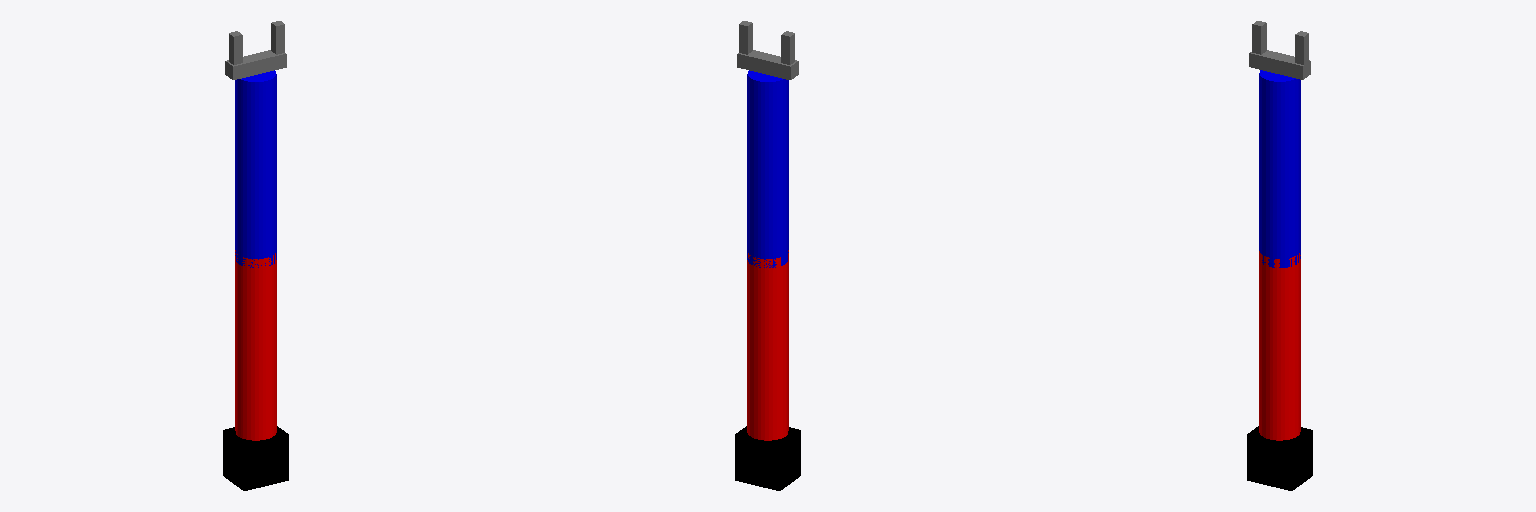
URDF robot description (Chain):
<?xml version="1.0"?>
<robot name="Chain">
<link name="base_link">

       <visual>
      <geometry>
	<box size="0.05 0.04 0.05" />
      </geometry>
      <origin rpy="0 0 0" xyz="0 0 0"/>
      <material name="black">
        <color rgba="0 0 0 0"/>
      </material>
    </visual>

    <collision>
      <geometry>
	<box size="0.05 0.04 0.05" />
      </geometry>
    </collision>
    <inertial>
	<mass value="20"/>
	<inertia ixx="1.0" ixy="0.0" ixz="0.0" iyy="1.0" iyz="0.0" izz="1.0"/>
    </inertial>
  </link>

  <joint name="joint1" type="revolute">
    <parent link="base_link"/>
    <child link="link1"/>
    <origin xyz="0 0 0.02"/>
    <axis xyz="0 1 0" />
    <limit effort="300" velocity="0.1" lower="-1.55" upper="1.55"/>
    <dynamics damping="50" friction="1"/>
  </joint>

  <link name="link1">
    <visual>
      <geometry>
	<cylinder length="0.2" radius="0.02"/>
      </geometry>
      <origin rpy="0 0 0" xyz="0 0 0.1"/>
      <material name="red">
        <color rgba="1 0 0 1"/>
      </material>
    </visual>
    <collision>
      <geometry>
	<cylinder length="0.2" radius="0.02"/>
      </geometry>
      <origin rpy="0 0 0" xyz="0 0 0.09"/>
    </collision>
    <inertial>
	<mass value="0.1"/>
	<inertia ixx="1.0" ixy="0.0" ixz="0.0" iyy="1.0" iyz="0.0" izz="1.0"/>
    </inertial>
  </link>

 <joint name="joint2" type="revolute">
    <parent link="link1"/>
    <child link="link2"/>
    <origin xyz="0 0 0.2"/>
    <axis xyz="0 1 0" />
    <limit effort="300" velocity="0.1" lower="-2.10" upper="2.10"/>
    <dynamics damping="50" friction="1"/>
  </joint>

<link name="link2">
    <visual>
      <geometry>
	<cylinder length="0.2" radius="0.02"/>
      </geometry>
      <origin rpy="0 0 0" xyz="0 0 0.09"/>
      <material name="blue">
        <color rgba="0 0 1 1"/>
      </material>
    </visual>
    <collision>
      <geometry>
	<cylinder length="0.2" radius="0.02"/>
      </geometry>
      <origin rpy="0 0 0" xyz="0 0 0.09"/>
    </collision>
    <inertial>
	<mass value="0.1"/>
	<inertia ixx="1.0" ixy="0.0" ixz="0.0" iyy="1.0" iyz="0.0" izz="1.0"/>
    </inertial>
  </link>
  
<joint name="joint3" type="revolute">
    <parent link="link2"/>
    <child link="gripper"/>
    <origin xyz="0 0 0.2"/>
    <axis xyz="0 1 0" />
    <limit effort="300" velocity="0.1" lower="-0.00000001" upper="0.00000001"/>
    <dynamics damping="50" friction="1"/>
  </joint>

<link name="gripper">
    <visual>
      <geometry>
	<box size="0.015 0.06 0.015" />
      </geometry>
      <origin rpy="0 0 1.57" xyz="0 0 0.0"/>
      <material name="white">
        <color rgba="0.5 0.5 0.5 1"/>
      </material>
    </visual>
    <collision>
      <geometry>
	<box size="0.015 0.06 0.015" />
      </geometry>
      <origin rpy="0 0 1.57" xyz="0 0 0.0"/>
    </collision>
    <inertial>
	<mass value="0.005"/>
	<inertia ixx="1.0" ixy="0.0" ixz="0.0" iyy="1.0" iyz="0.0" izz="1.0"/>
    </inertial>
  </link>

<joint name="joint4" type="revolute">
    <parent link="gripper"/>
    <child link="finger1"/>
    <origin xyz=".025 0 0.022"/>
    <axis xyz="0 1 0" />
    <limit effort="300" velocity="0.1" lower="-0.00000001" upper="0.00000001"/>
    <dynamics damping="50" friction="1"/>
  </joint>

<link name="finger1">
    <visual>
      <geometry>
	<box size="0.01 0.01 0.032" />
      </geometry>
      <origin rpy="0 0 0" xyz="0 0 0"/>
      <material name="white">
        <color rgba="0.5 0.5 0.5 1"/>
      </material>
    </visual>
    <collision>
      <geometry>
	<box size="0.01 0.01 0.032" />
      </geometry>
      <origin rpy="0 0 0" xyz="0 0 0"/>
    </collision>
    <inertial>
	<mass value=".01"/>
	<inertia ixx="1.0" ixy="0.0" ixz="0.0" iyy="1.0" iyz="0.0" izz="1.0"/>
    </inertial>
  </link>
  
<joint name="joint5" type="revolute">
    <parent link="gripper"/>
    <child link="finger2"/>
    <origin xyz="-0.023 0 0.022"/>
    <axis xyz="0 1 0" />
    <limit effort="300" velocity="0.1" lower="-0.00000001" upper="0.00000001"/>
    <dynamics damping="50" friction="1"/>
  </joint>

<link name="finger2">
    <visual>
      <geometry>
	<box size="0.01 0.01 0.032" />
      </geometry>
      <origin rpy="0 0 0" xyz="0 0 0"/>
      <material name="white">
        <color rgba="0.5 0.5 0.5 1"/>
      </material>
    </visual>
    <collision>
      <geometry>
	<box size="0.01 0.01 0.032" />
      </geometry>
      <origin rpy="0 0 0" xyz="0 0 0"/>
    </collision>
    <inertial>
	<mass value=".01"/>
	<inertia ixx="1.0" ixy="0.0" ixz="0.0" iyy="1.0" iyz="0.0" izz="1.0"/>
    </inertial>
  </link>

  
  </robot>

--- Render facts (derived) ---
3 views of the same robot in one strip: view 1: azimuth 30°, elevation 25°; view 2: azimuth 150°, elevation 25°; view 3: azimuth 330°, elevation 25° (orthographic).
Model Chain with 6 links and 5 joints (5 revolute), rooted at base_link, posed all joints at 0.
Links seen in each view (by area): view 1: link2, link1, base_link, gripper; view 2: link2, link1, base_link, gripper; view 3: link2, link1, base_link, gripper.
Link boxes in pixels (<box>): link2: <box>235,70,276,267</box>; link1: <box>235,250,276,440</box>; base_link: <box>223,426,288,490</box>; gripper: <box>225,50,286,79</box>; link2: <box>747,70,788,267</box>; link1: <box>747,250,788,440</box>; base_link: <box>735,426,800,490</box>; gripper: <box>737,50,798,79</box>; link2: <box>1259,70,1300,267</box>; link1: <box>1259,251,1300,440</box>; base_link: <box>1247,426,1312,490</box>; gripper: <box>1249,50,1310,79</box>.
Bounding box of the posed robot: 0.06 × 0.04 × 0.483 m (x, y, z).
Geometry: primitives only (box / cylinder / sphere), no mesh files.
